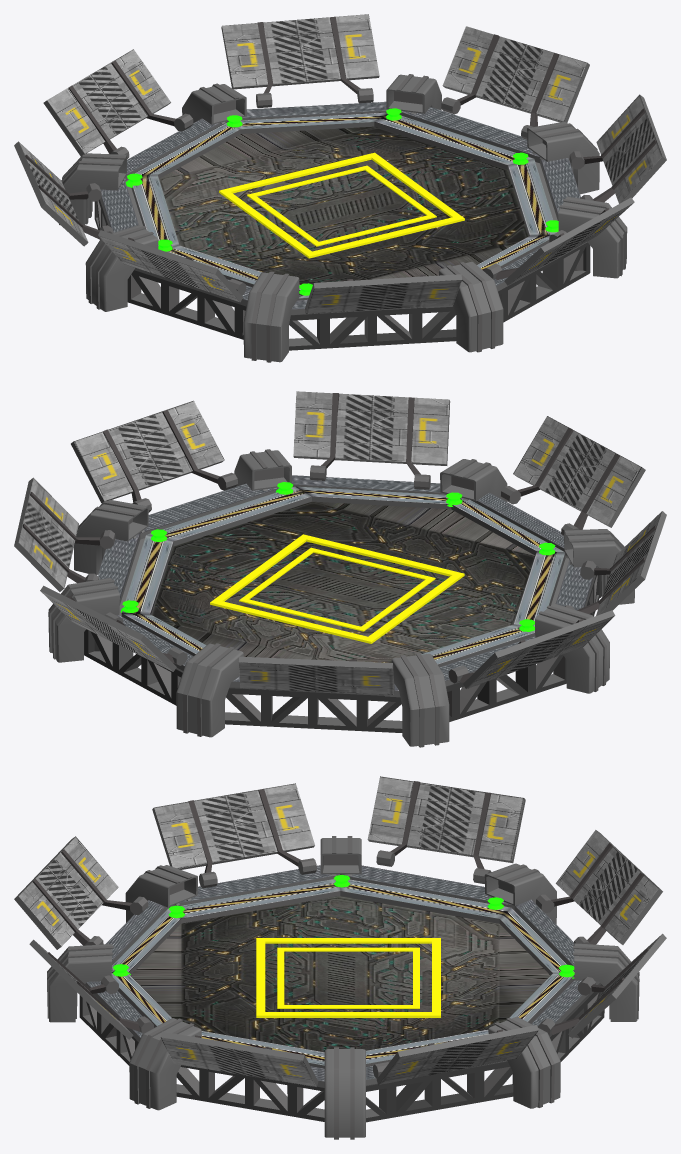
File: sci-fi_platform__teleporter_padunity__unreal.glb
3 views of the same model, one above another, from view 1: azimuth 30°, elevation 25°; view 2: azimuth 150°, elevation 25°; view 3: azimuth 270°, elevation 25° (orthographic). The views are drawn at different scales.
Visible parts, largest first — view 1: Cube.003; view 2: Cube.003; view 3: Cube.003.
Boxes of the visible parts, <box> form: Cube.003: <box>14,14,666,362</box>; Cube.003: <box>14,391,666,747</box>; Cube.003: <box>14,776,666,1139</box>.
Size of the model in its own units: 9.14 by 1.52 by 8.93.
Materials: 9 (3 with a texture image).
